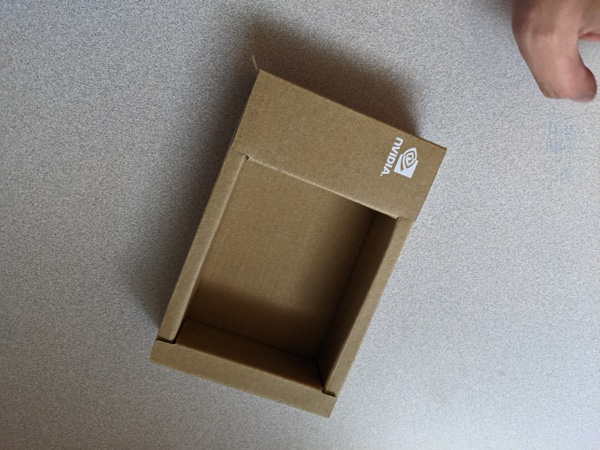cardboard: (136, 49, 469, 436)
